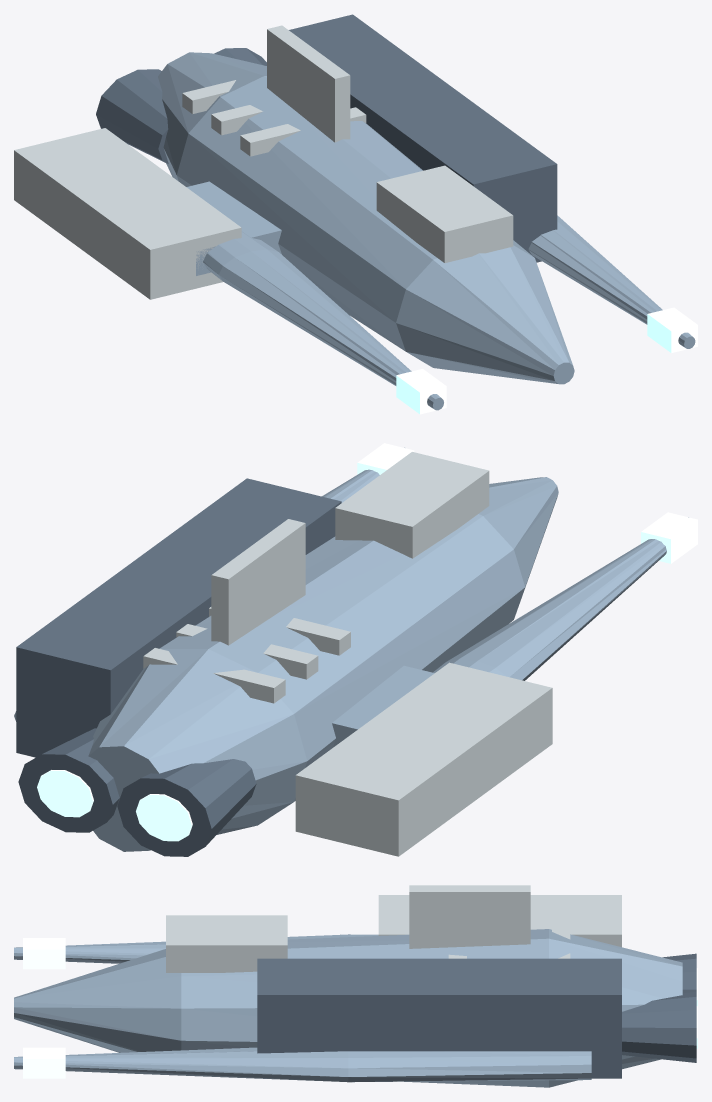
3 views of the same model, one above another, from view 1: azimuth 30°, elevation 25°; view 2: azimuth 150°, elevation 25°; view 3: azimuth 270°, elevation 25° (orthographic). The views are drawn at different scales.
Bounding box in the file's own units: 2.32 × 1.28 × 4.18.
